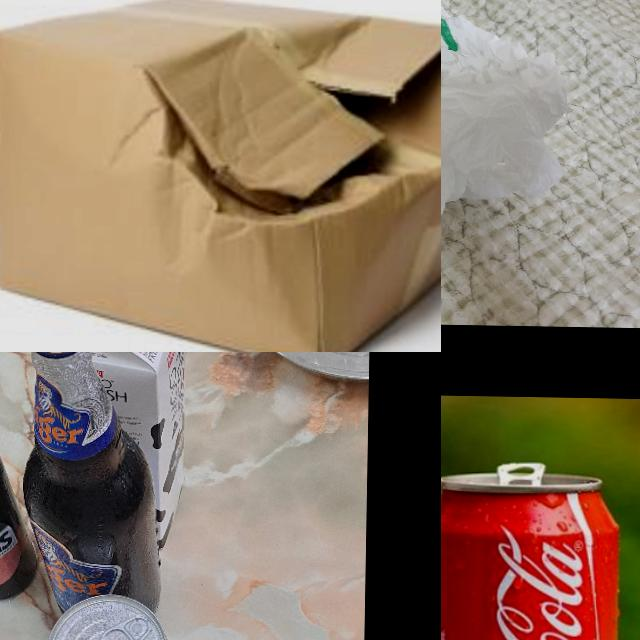aba de lata: (497, 461, 548, 488), (99, 614, 151, 640)
caixinha: (51, 352, 187, 549)
garrafa de vidro: (19, 352, 165, 617), (0, 358, 39, 604)
lata: (441, 469, 622, 640), (46, 594, 176, 640)
papelão: (0, 0, 441, 352)
sacola plástica: (441, 0, 575, 316)
